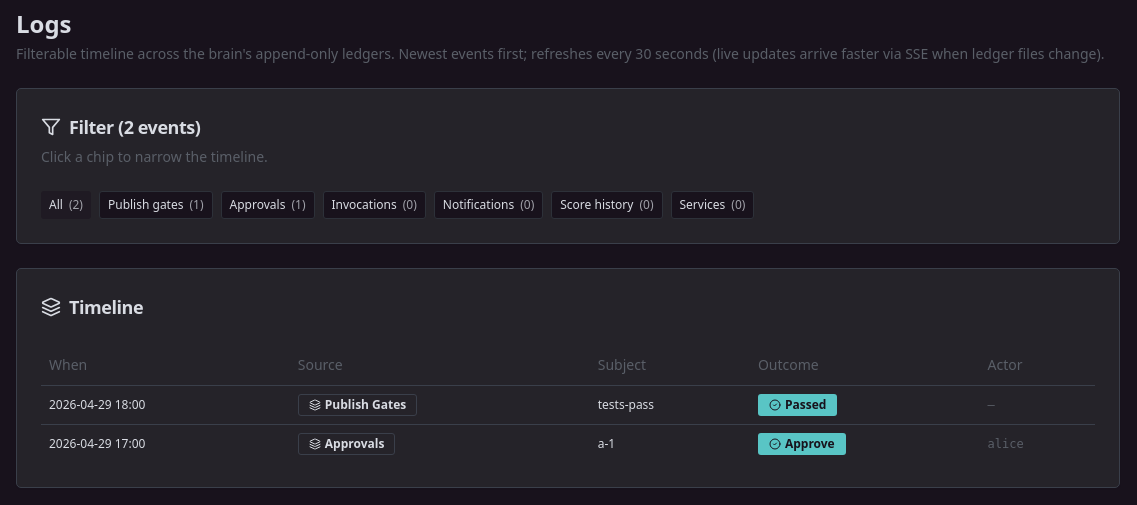
LogsPage › filter chips narrow the timeline by source
The image size is (1137, 505).
Check: the table with test id "logs-timeline" is shown, box 41,345 -> 1095,462
Check: the text "tests-pass" is shown, box 590,385 -> 750,424
Click "Approvals" chip → only approvals remain.
Click the button with test id "filter-approvals" at (268, 205), box 221,191 -> 314,219
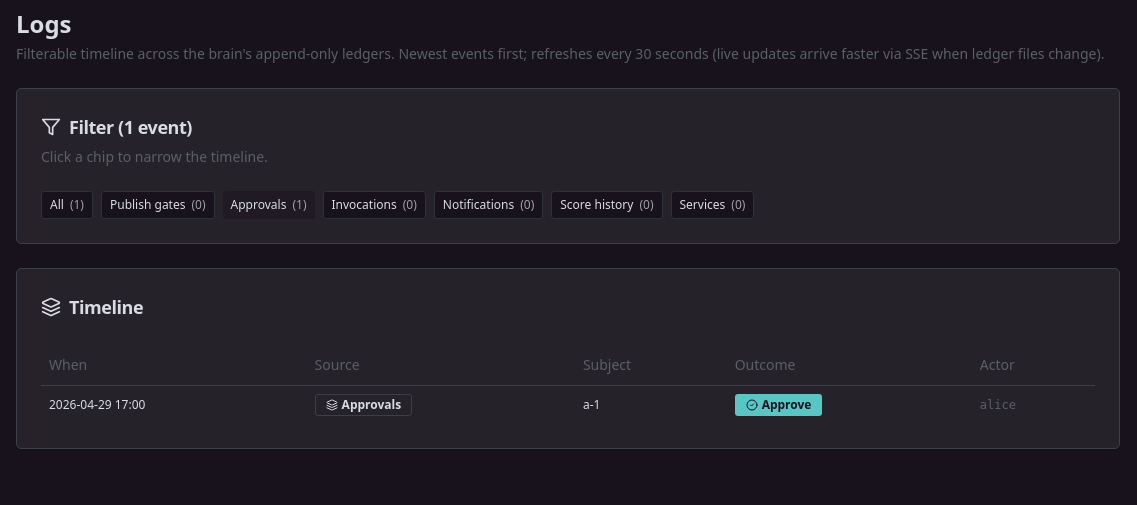
Check: the text "a-1" is shown, box 575,385 -> 727,424
Check: the button "tests-pass" is gone
Click "Publish gates" chip → only gates.
Click the button with test id "filter-publish-gates" at (158, 205), box 101,191 -> 215,219
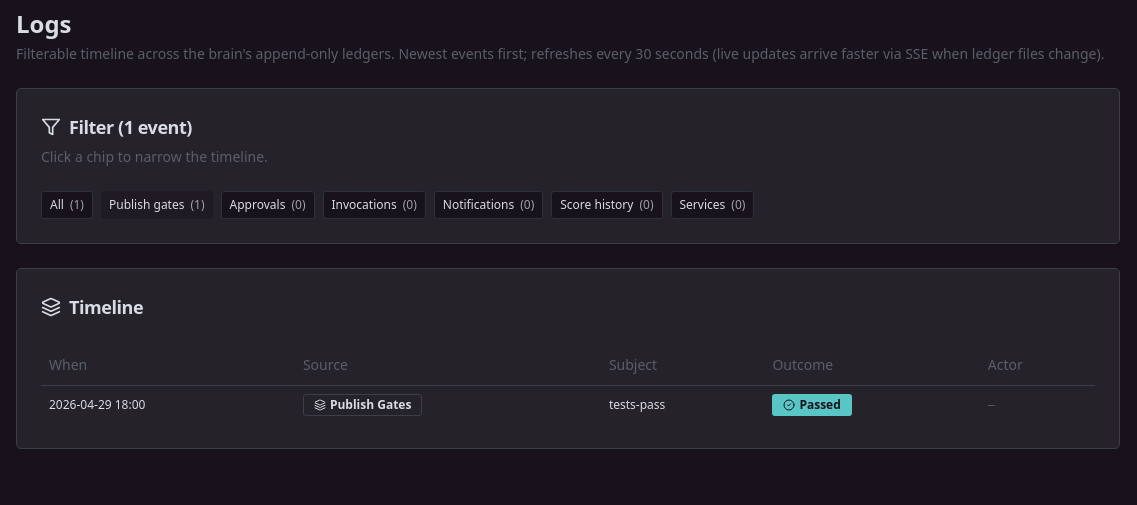
Check: the text "tests-pass" is shown, box 601,385 -> 764,424
Check: the button "a-1" is gone
